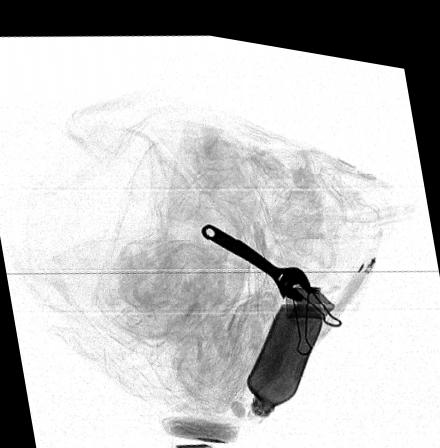Wrench: (199, 216, 311, 289)
